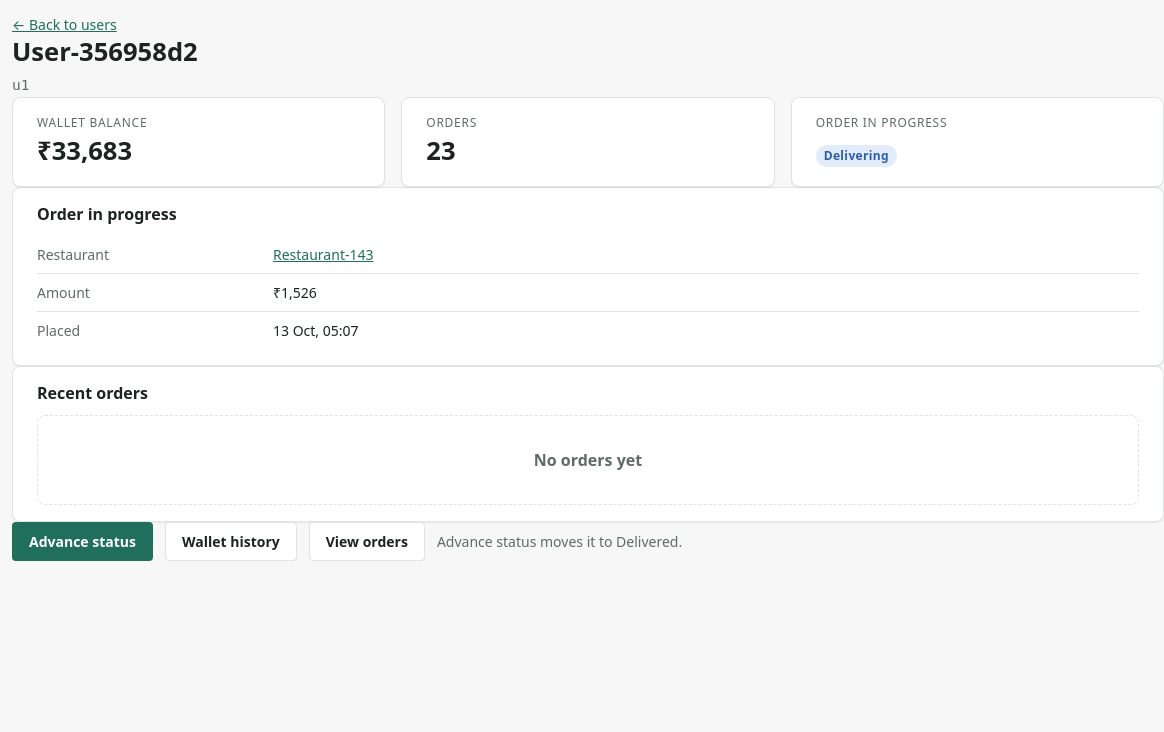
Test case: Customer page › reloads the customer after a failed advance, since the page may be out of date
Step 1. Click the button "Advance status" → {"x": 82, "y": 542}, box [12,522,153,561]
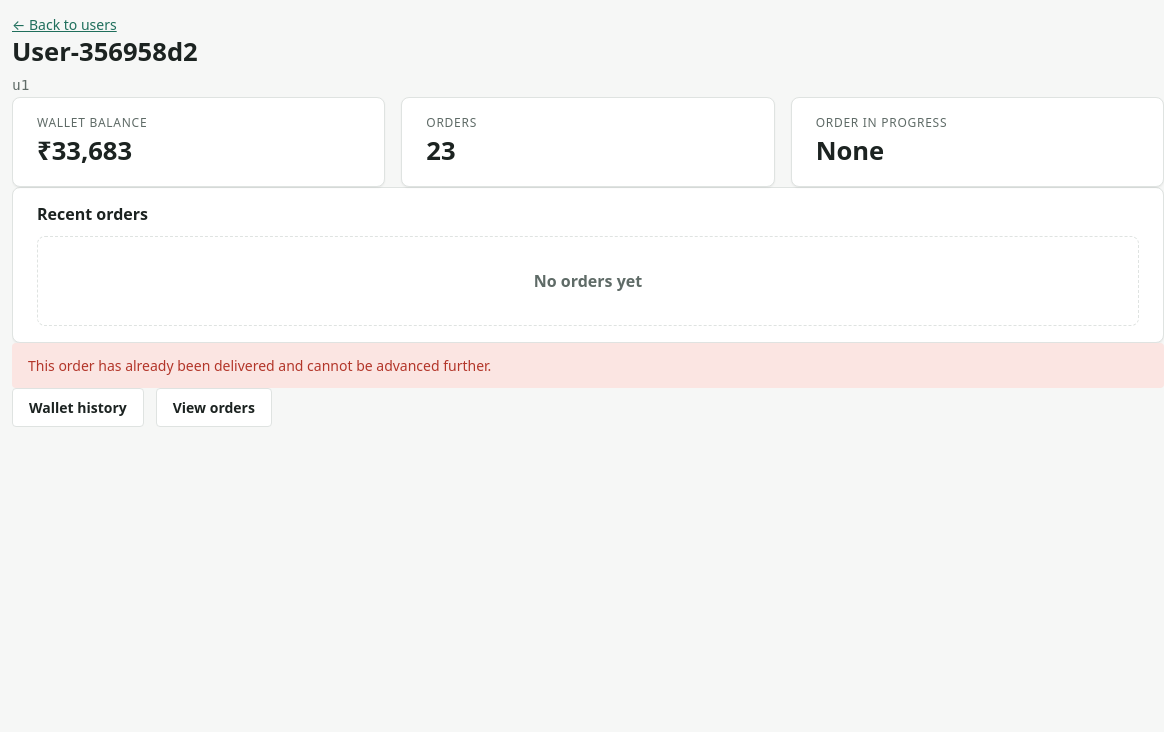
Expected: the message shows "already been delivered", [28,356,491,375]
Expected: the text "None" is shown, [816,133,884,168]
